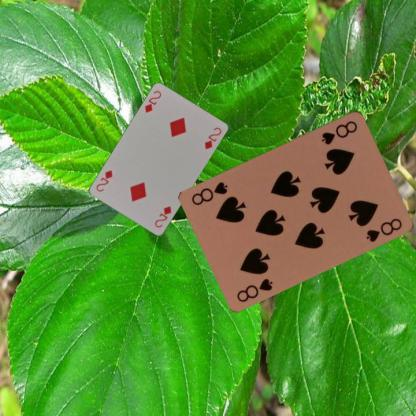2d: (152, 203, 173, 229), (142, 88, 162, 114)
8s: (319, 117, 359, 146), (234, 275, 274, 303)
